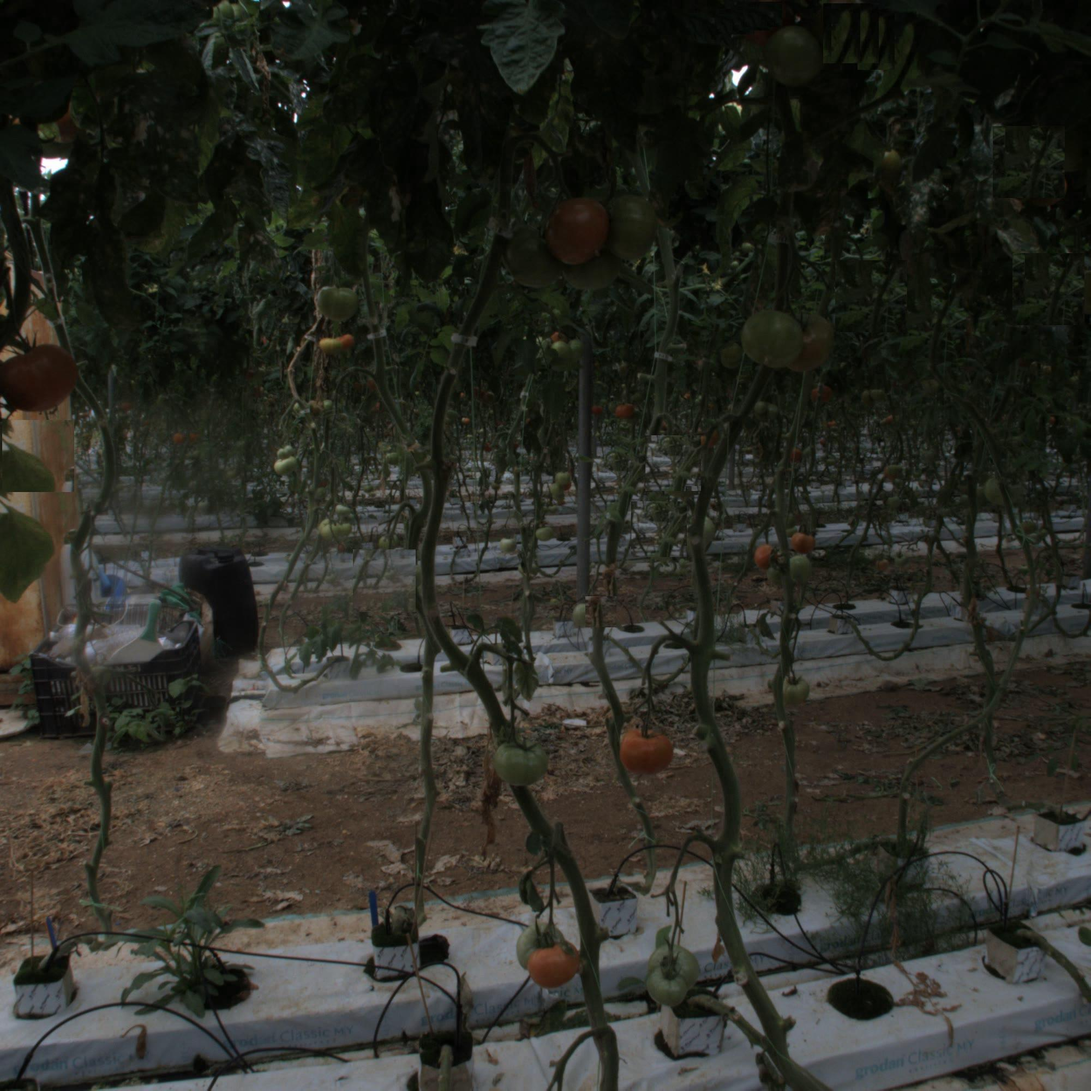['unripe', 'semi-ripe', 'fully-ripe']: (594, 195, 659, 261), (777, 312, 834, 369), (643, 946, 700, 1003), (764, 26, 821, 83), (742, 311, 799, 368), (496, 738, 544, 786), (316, 284, 356, 323)
